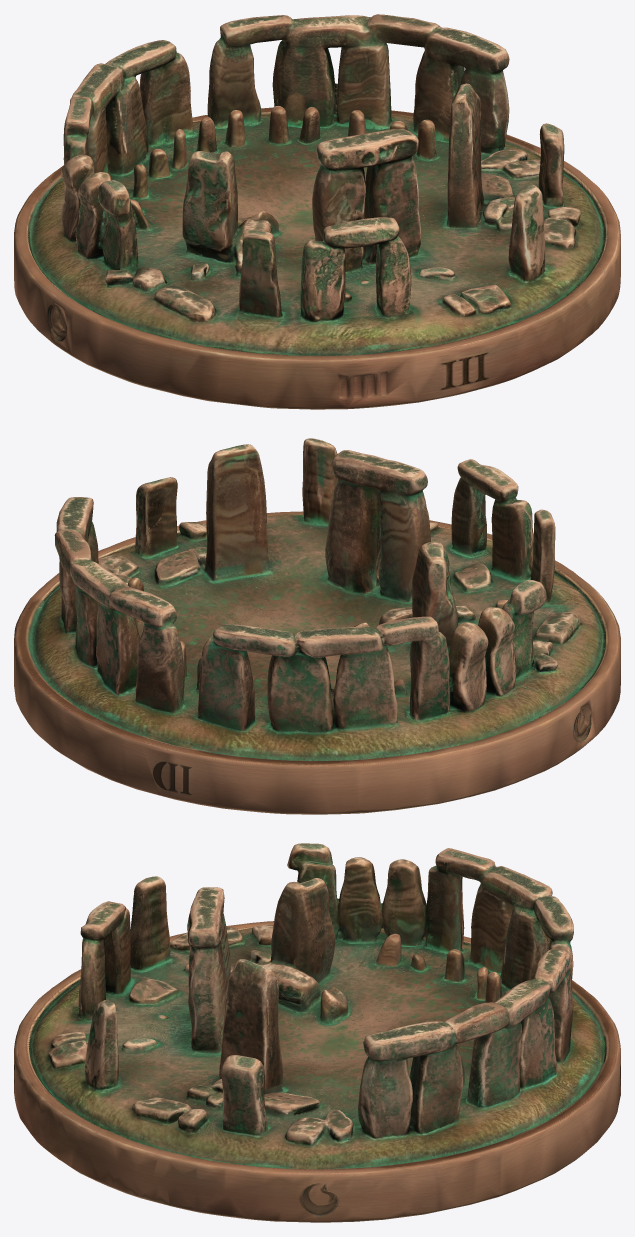
The model's file is stonehenge_bronze.glb.
3 renders of one model, top to bottom at view 1: azimuth 30°, elevation 25°; view 2: azimuth 150°, elevation 25°; view 3: azimuth 270°, elevation 25°, orthographic.
Parts seen in each view (by area): view 1: Mesh_0; view 2: Mesh_0; view 3: Mesh_0.
Boxes of the visible parts, bbox=[...] form: Mesh_0: bbox=[14, 14, 620, 409]; Mesh_0: bbox=[14, 438, 620, 814]; Mesh_0: bbox=[14, 843, 620, 1222].
Size of the model in its own units: 1.91 by 0.6551 by 1.91.
1 material, 1 textured.
